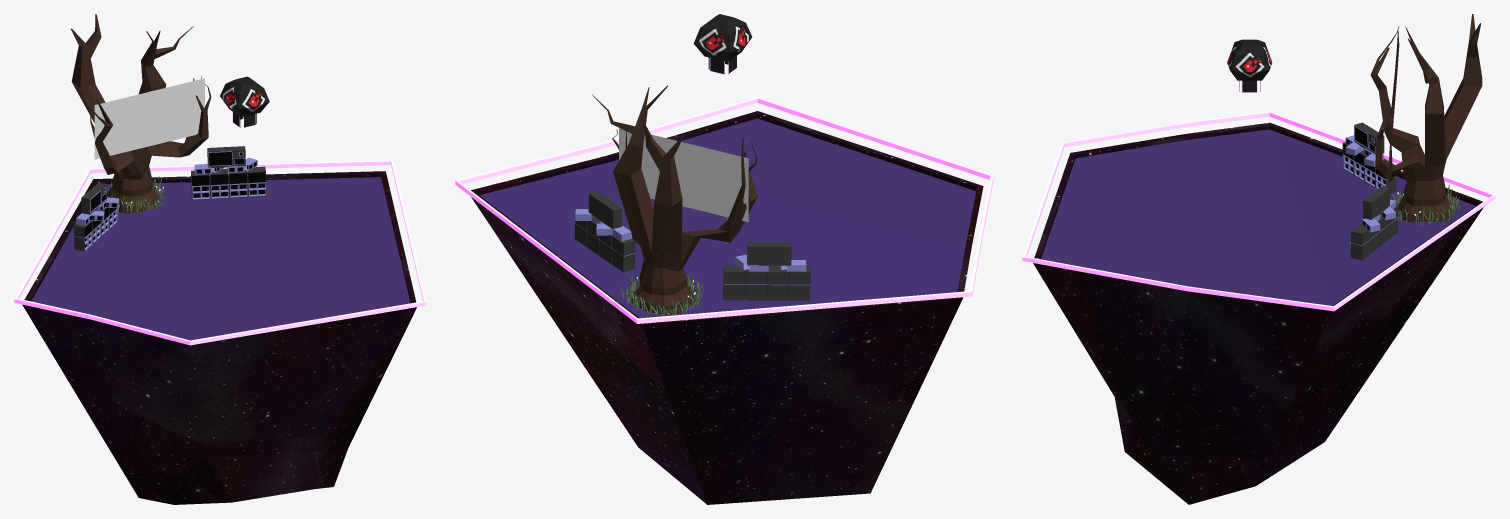
Rendered from interiorPalco2.glb.
3 renders of one model, left to right at view 1: azimuth 30°, elevation 25°; view 2: azimuth 150°, elevation 25°; view 3: azimuth 270°, elevation 25°, orthographic. The views are drawn at different scales.
Parts seen in each view (by area): view 1: chao, arvore, Screen, linha, Cube.001, caixaGrandeCima.001, caixaGrandeCima, caixaGrande4.001, caixaGrande2.001, caixaGrande1.001, caixaGrande3.001, caixaGrande1; view 2: chao, arvore, linha, Screen, Cube.001, caixaGrandeCima, caixaGrandeCima.001, caixaGrande4, caixaGrande1.001, caixaGrande2, caixaGrande1, caixaGrande3; view 3: chao, arvore, linha, Cube.001, caixaGrandeCima.001, caixaGrande4.001, caixaGrandeCima.
Boxes of the visible parts, box(x1,y1,x2,y2) form: chao: box(22, 171, 416, 504); arvore: box(70, 14, 211, 213); Screen: box(94, 78, 204, 159); linha: box(14, 160, 426, 345); Cube.001: box(220, 76, 269, 128); caixaGrandeCima.001: box(207, 146, 245, 167); caixaGrandeCima: box(81, 182, 106, 214); caixaGrande4.001: box(247, 166, 266, 196); caixaGrande2.001: box(209, 168, 229, 198); caixaGrande1.001: box(191, 170, 210, 200); caixaGrande3.001: box(228, 170, 247, 197); caixaGrande1: box(74, 220, 93, 251); chao: box(471, 111, 983, 504); arvore: box(592, 85, 757, 315); linha: box(455, 97, 993, 323); Screen: box(619, 128, 748, 222); Cube.001: box(693, 14, 752, 74); caixaGrandeCima: box(747, 242, 791, 265); caixaGrandeCima.001: box(588, 191, 622, 229); caixaGrande4: box(723, 266, 745, 300); caixaGrande1.001: box(611, 235, 635, 272); caixaGrande2: box(766, 266, 788, 300); caixaGrande1: box(788, 266, 810, 300); caixaGrande3: box(744, 269, 767, 300); chao: box(1033, 122, 1483, 504); arvore: box(1370, 14, 1482, 221); linha: box(1022, 111, 1495, 311); Cube.001: box(1227, 39, 1272, 92); caixaGrandeCima.001: box(1362, 186, 1390, 219); caixaGrande4.001: box(1350, 225, 1371, 260); caixaGrandeCima: box(1354, 122, 1384, 154).
Bounding box in the file's own units: 144 × 136 × 135.
12 materials, 2 textured.
